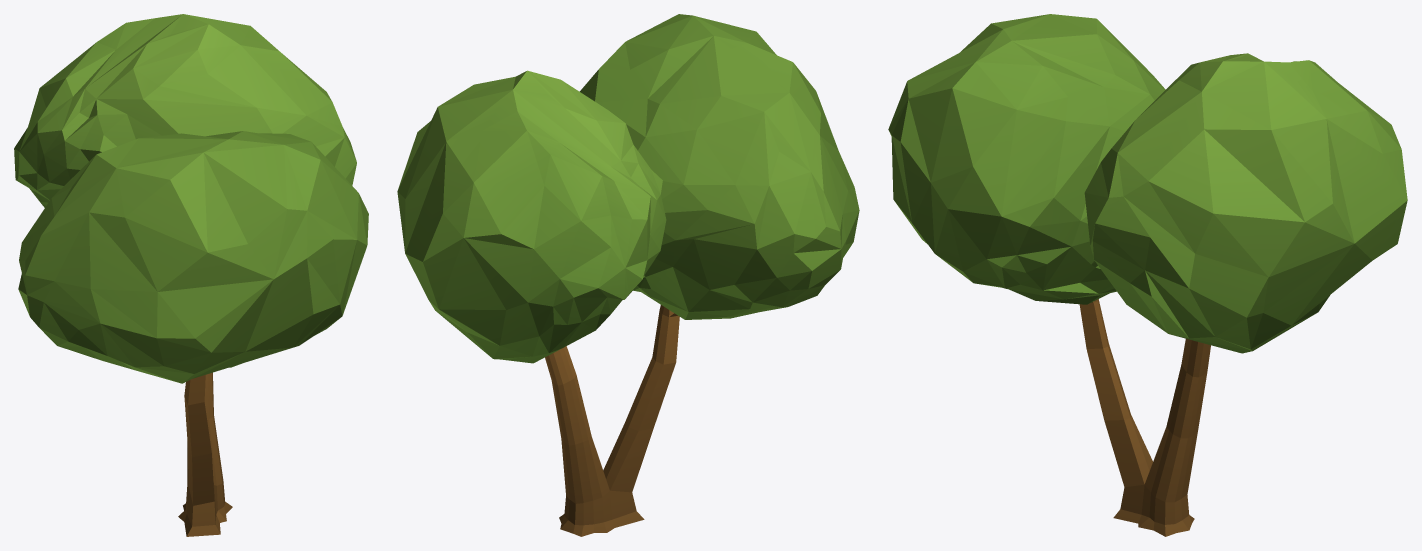
The model's file is Tree 2_Shiqi.glb.
The picture shows the model from 3 angles, left to right: view 1: azimuth 30°, elevation 25°; view 2: azimuth 150°, elevation 25°; view 3: azimuth 270°, elevation 25°; orthographic projection. The views are drawn at different scales.
Visible parts, largest first — view 1: Tree 2; view 2: Tree 2; view 3: Tree 2.
Boxes of the visible parts, left/top/right/bottom form: Tree 2: left=14, top=14, right=368, bottom=536; Tree 2: left=397, top=14, right=859, bottom=536; Tree 2: left=888, top=14, right=1407, bottom=536.
Size of the model in its own units: 19.6 by 23.55 by 23.22.
Materials: 1 (1 with a texture image).
